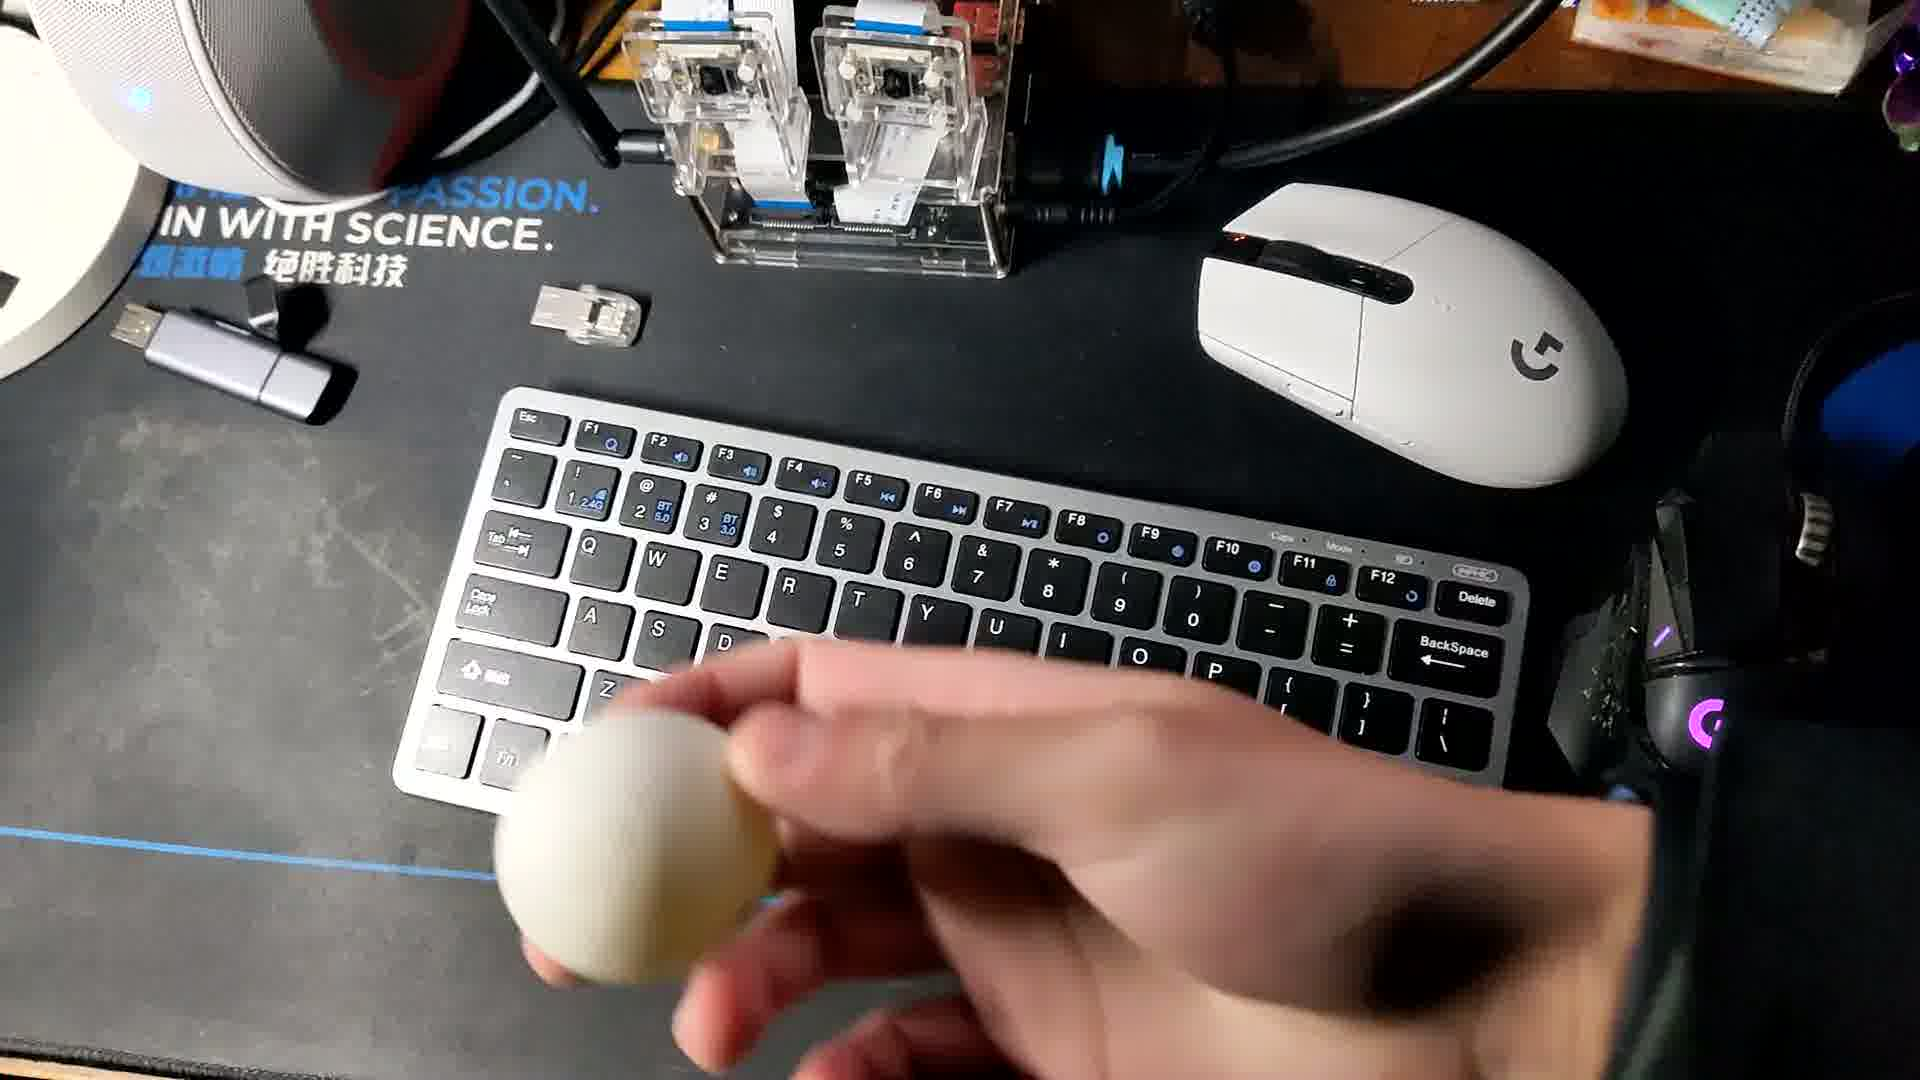Ball: (491, 705, 761, 986)
